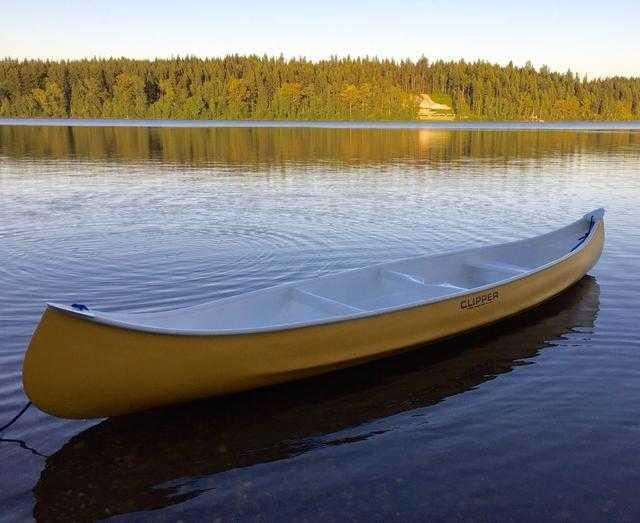kayak: (20, 214, 618, 423)
